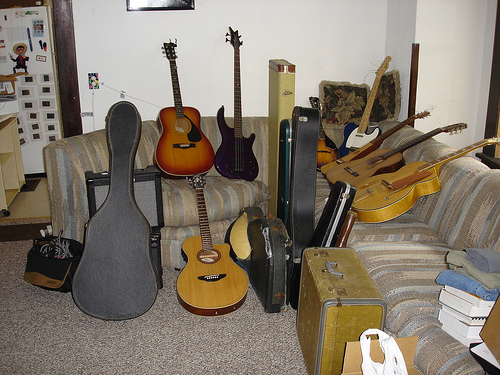guitar: (175, 172, 252, 317), (153, 41, 216, 179)
